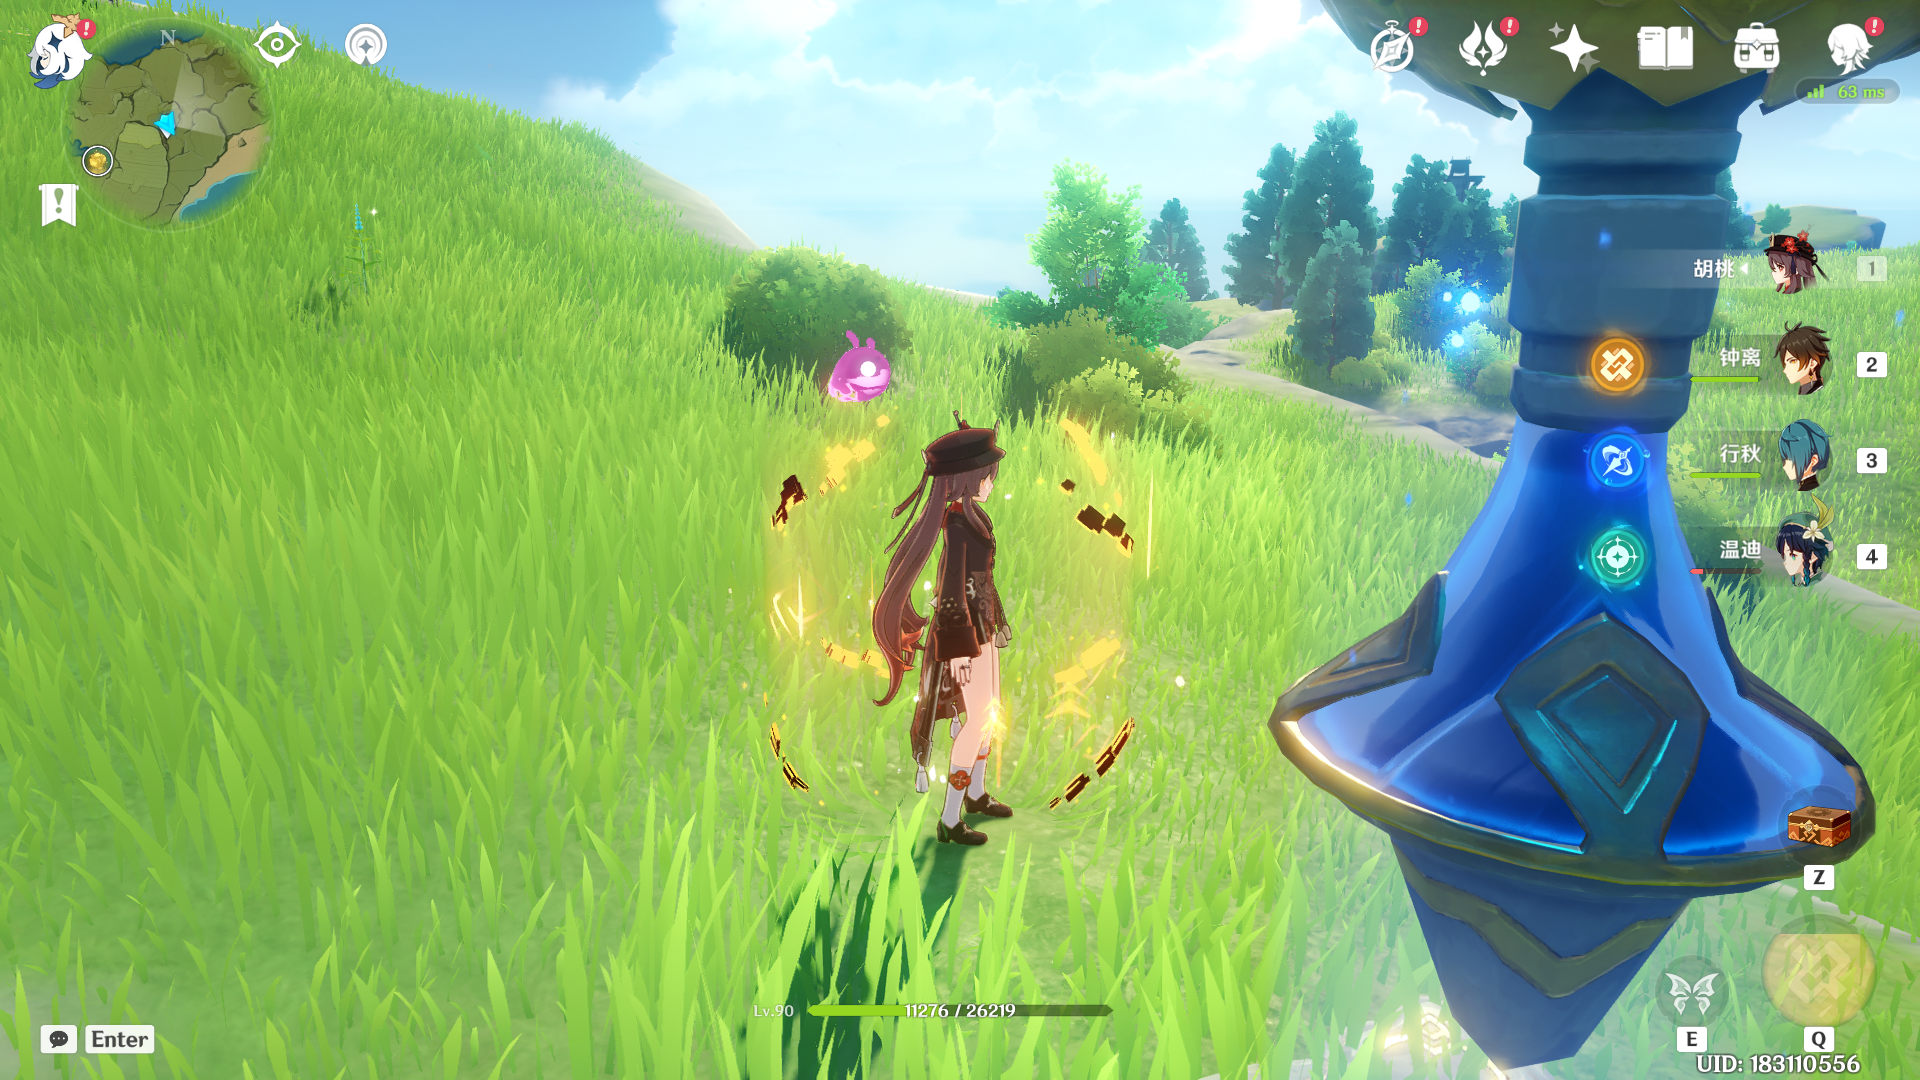character: (818, 384, 1112, 895)
